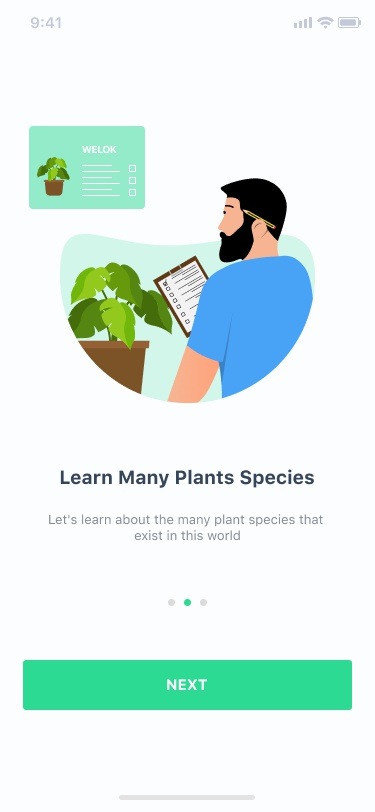Image: (29, 126, 316, 404)
PageIndicator: (168, 598, 209, 607)
Text: (49, 513, 324, 541), (61, 468, 315, 489)
TextButton: (24, 659, 353, 710)
UpperTaskBar: (31, 17, 362, 30)
